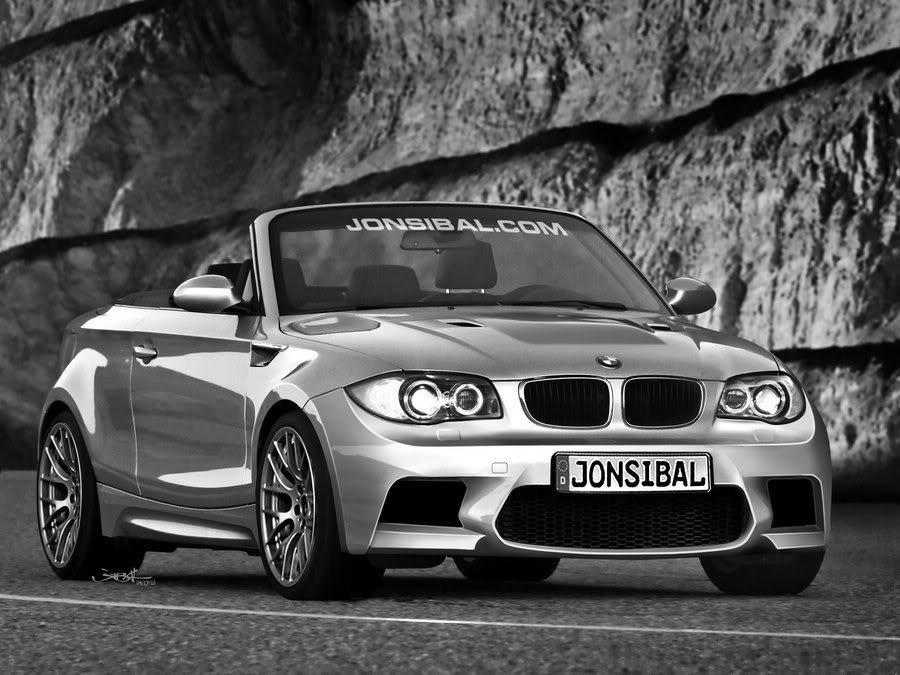car: (35, 197, 838, 605)
